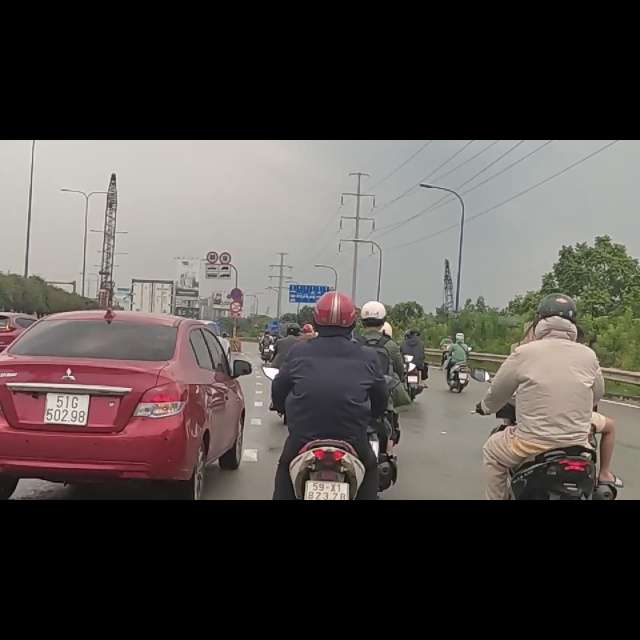bien_cam: (230, 263, 243, 284)
